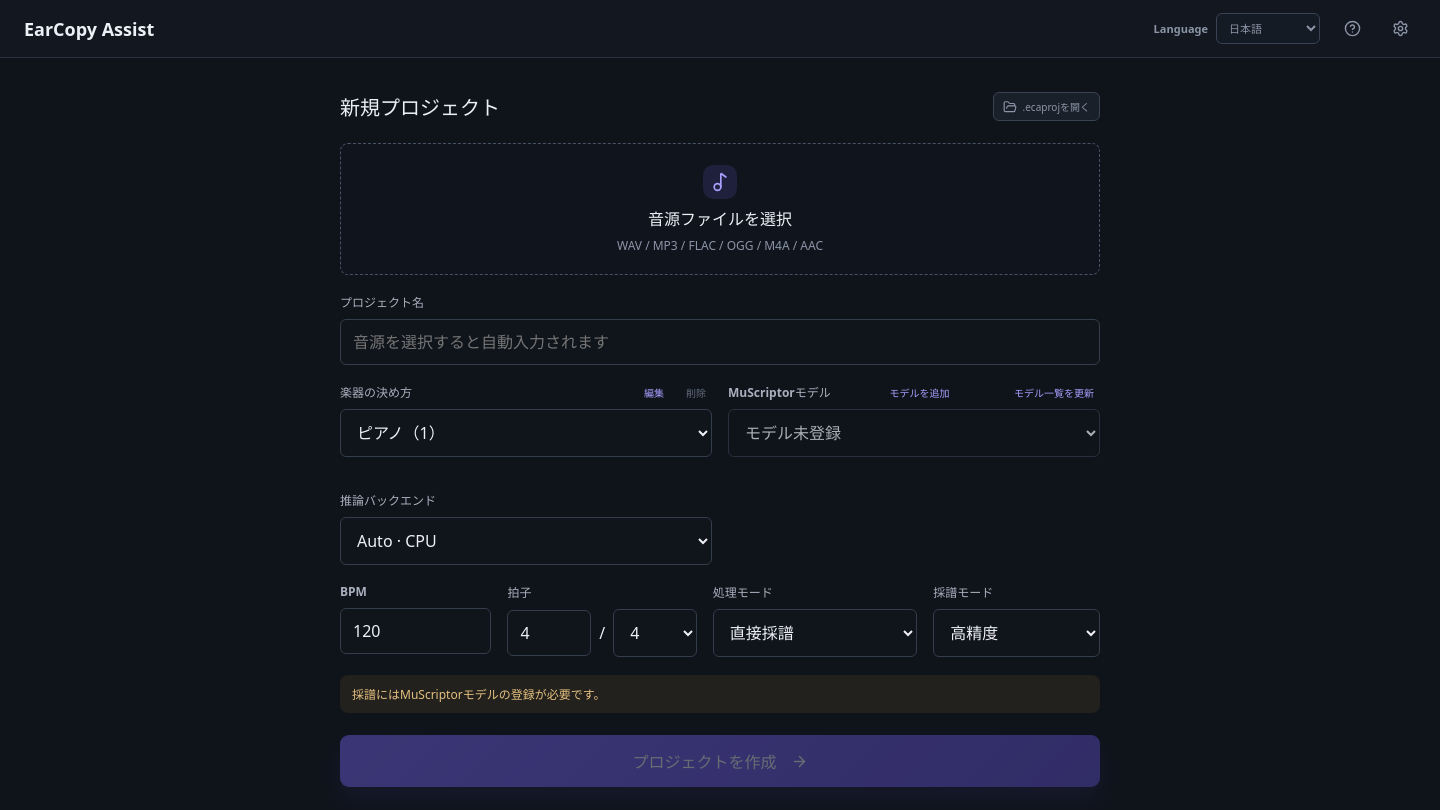
Scenario: NewProjectScreen stem separation › changes the new-project screen language
The width and height of the screenshot is (1440, 810).
Select "中文" in the dropdown labelled "Language". click: (1268, 28)
box: [1216,13,1320,44]
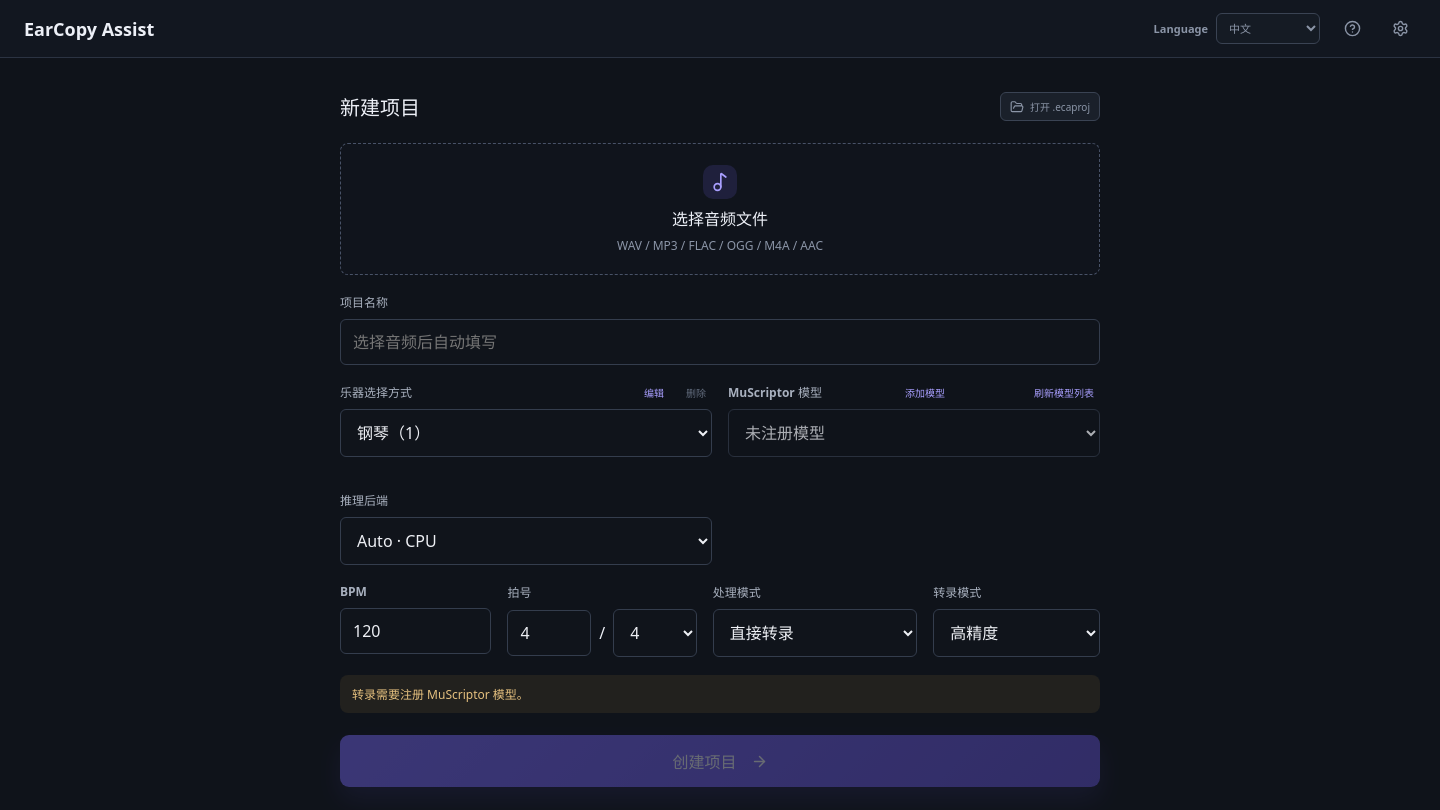
expect the heading "新建项目" is shown: met, box [340,92,420,121]
expect the text "项目名称" is shown: met, box [340,294,388,311]
